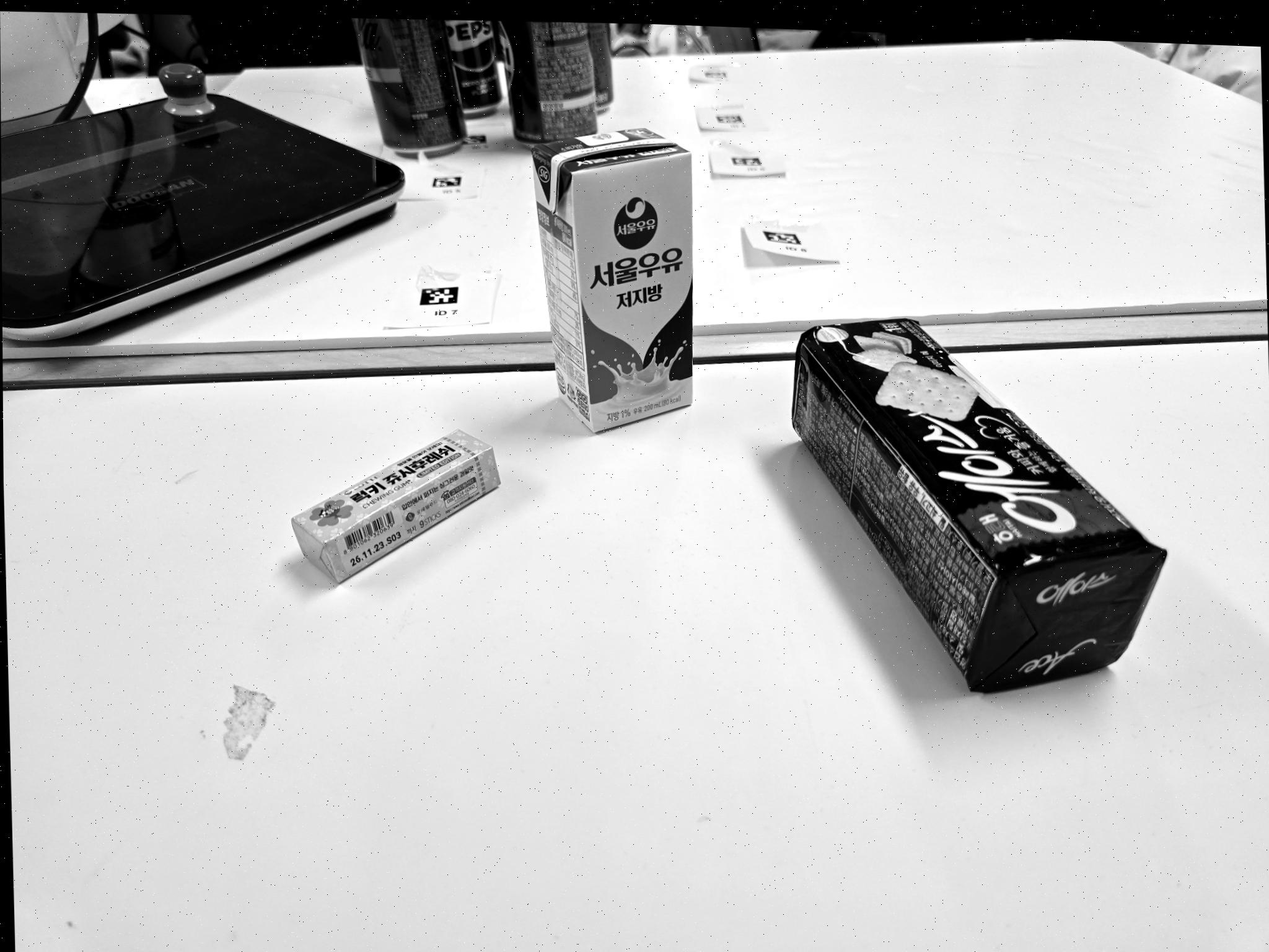cracker_ace: (792, 319, 1166, 692)
gum_yellow: (292, 430, 500, 582)
milk_blue: (532, 129, 694, 432)
